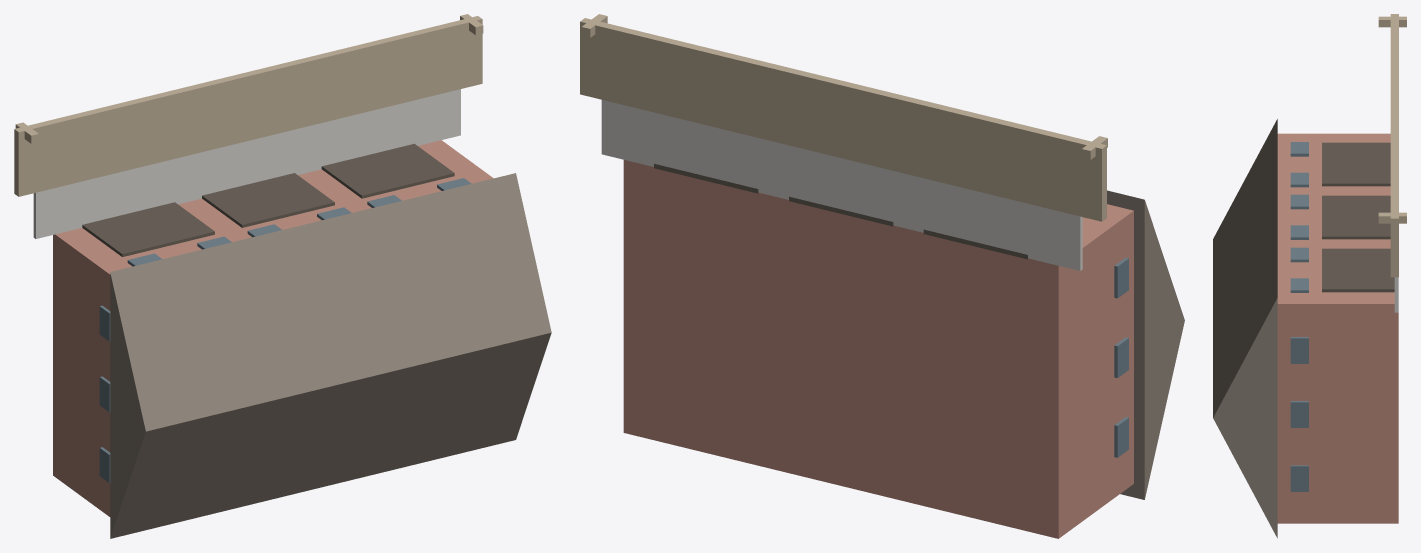
Rendered from r-150-thyro-boathouse-vlot.glb.
3 views of the same model, side by side, from view 1: azimuth 30°, elevation 25°; view 2: azimuth 150°, elevation 25°; view 3: azimuth 270°, elevation 25° (orthographic). The views are drawn at different scales.
Visible parts, largest first — view 1: roof, vlot, walls, apron, boat-doors, windows; view 2: walls, vlot, apron, roof, boat-doors, windows; view 3: walls, roof, boat-doors, windows, vlot.
Boxes of the visible parts, x1,y1,x2,y2 form: roof: (110, 173, 551, 538); vlot: (14, 14, 483, 196); walls: (53, 140, 493, 516); apron: (33, 89, 460, 238); boat-doors: (82, 143, 454, 256); windows: (99, 178, 471, 483); walls: (623, 160, 1133, 538); vlot: (580, 14, 1107, 221); apron: (601, 100, 1082, 270); roof: (1107, 190, 1184, 499); boat-doors: (654, 163, 1027, 259); windows: (1114, 257, 1128, 457); walls: (1277, 133, 1398, 523); roof: (1213, 119, 1277, 538); boat-doors: (1322, 142, 1394, 292); windows: (1290, 142, 1308, 491); vlot: (1378, 14, 1406, 277).
Bounding box in the file's own units: 24000 × 18200 × 9600.
